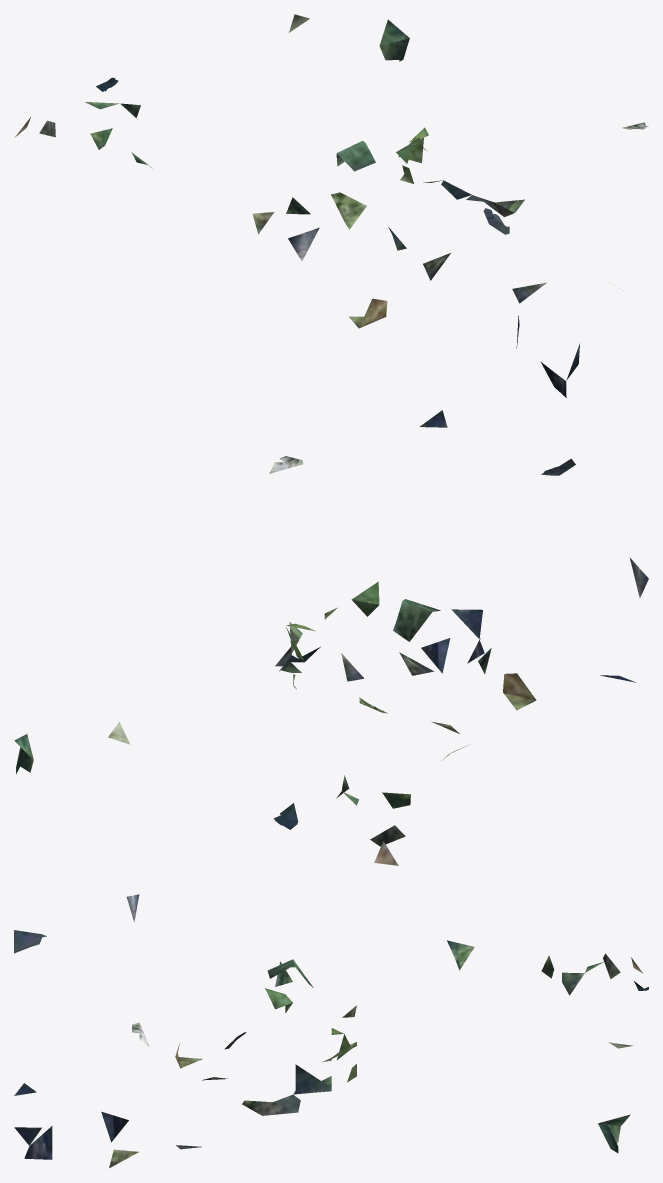
3 views of the same model, one above another, from view 1: azimuth 30°, elevation 25°; view 2: azimuth 150°, elevation 25°; view 3: azimuth 270°, elevation 25° (orthographic). The views are drawn at different scales.
Parts seen in each view (by area): view 1: 30436272704361517712_1; view 2: 30436272704361517712_1; view 3: 30436272704361517712_1.
Boxes of the visible parts, x1,y1,x2,y2 form: 30436272704361517712_1: (14, 14, 648, 427); 30436272704361517712_1: (14, 456, 648, 865); 30436272704361517712_1: (14, 894, 648, 1168).
Size of the model in its own units: 25.17 by 12.94 by 38.26.
1 material, 1 textured.
